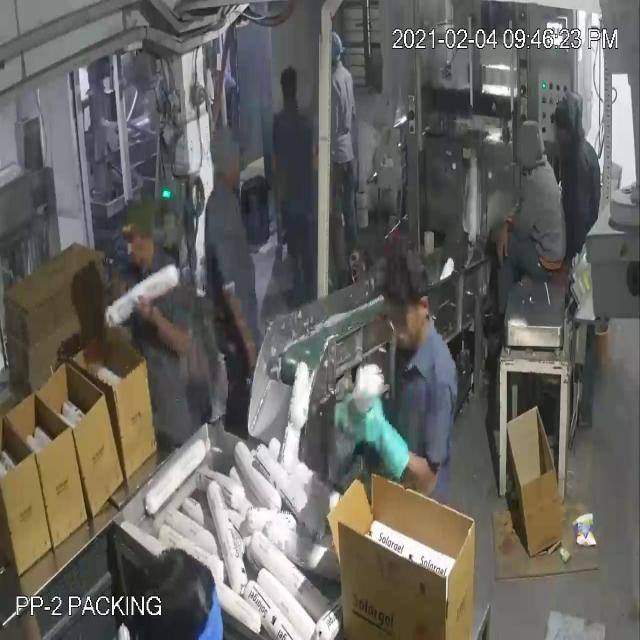No_Gloves: (55, 98, 372, 427)
